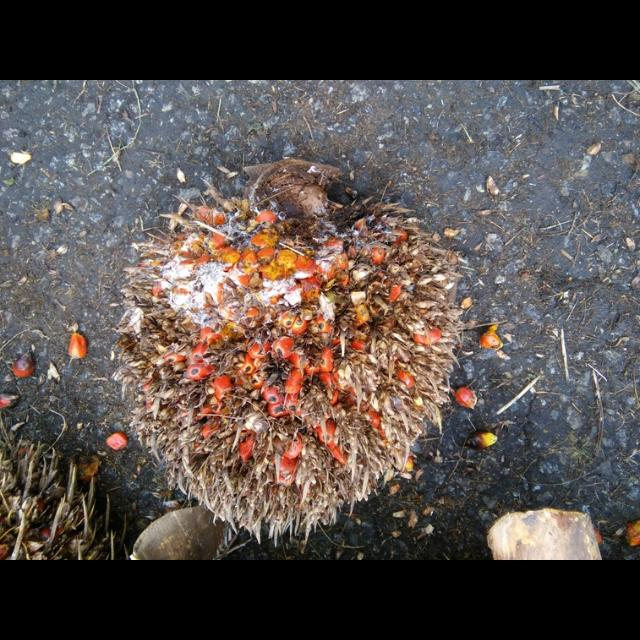Overripe: (119, 159, 473, 538)
